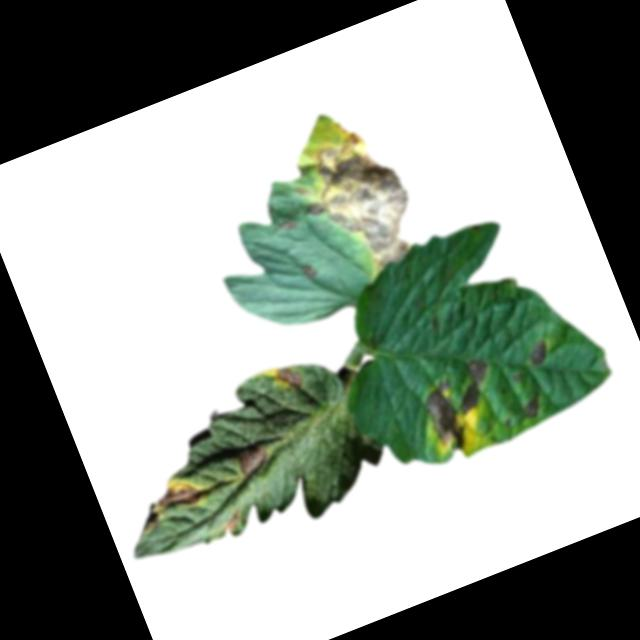Early_blight: (284, 122, 432, 290), (414, 354, 513, 454), (151, 470, 211, 519), (232, 439, 278, 482), (273, 362, 307, 395), (520, 393, 549, 421), (526, 341, 554, 368), (219, 509, 245, 534), (279, 215, 303, 237), (299, 262, 320, 285)
